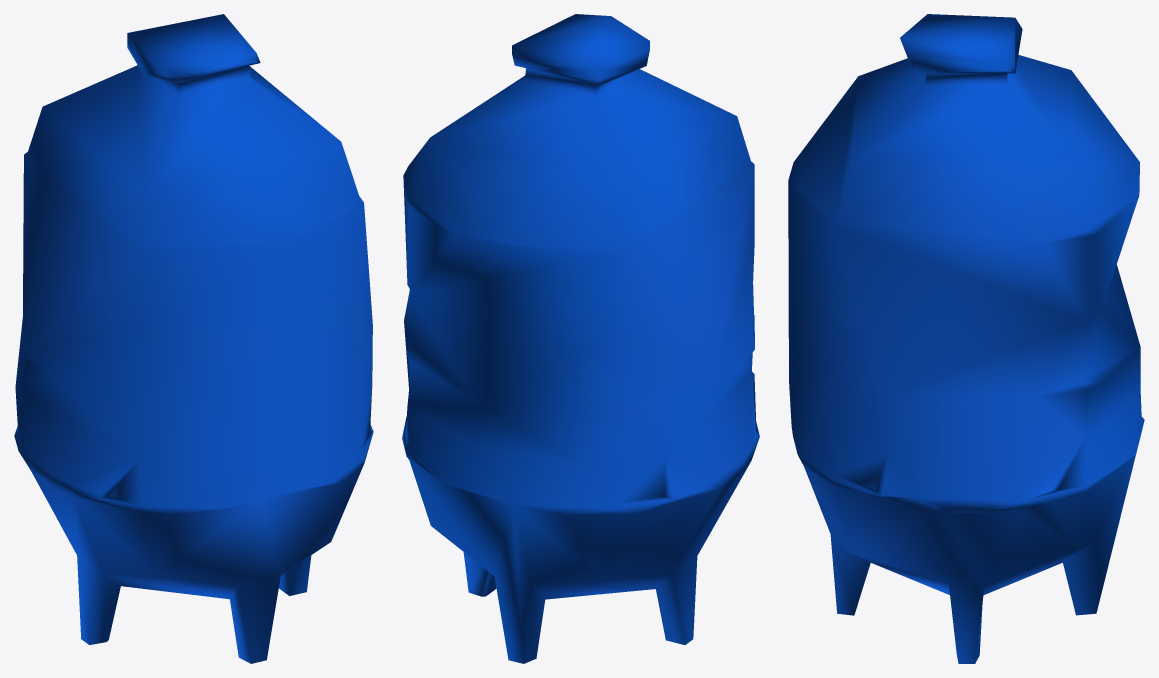
The model's file is model.progressive.glb.
3 views of the same model, side by side, from view 1: azimuth 30°, elevation 25°; view 2: azimuth 150°, elevation 25°; view 3: azimuth 270°, elevation 25° (orthographic).
Parts seen in each view (by area): view 1: material; view 2: material; view 3: material.
Part boxes in pixels (x1=…): material: x1=14, y1=14, x2=373, y2=663; material: x1=402, y1=14, x2=759, y2=663; material: x1=788, y1=14, x2=1144, y2=663.
Bounding box in the file's own units: 1.05 × 1.88 × 1.05.
Materials: 1 (1 with a texture image).
